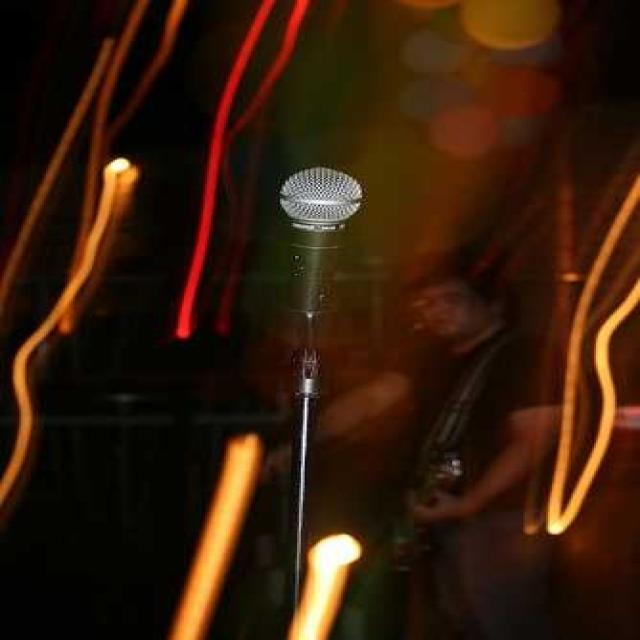microphone: (276, 166, 366, 320)
